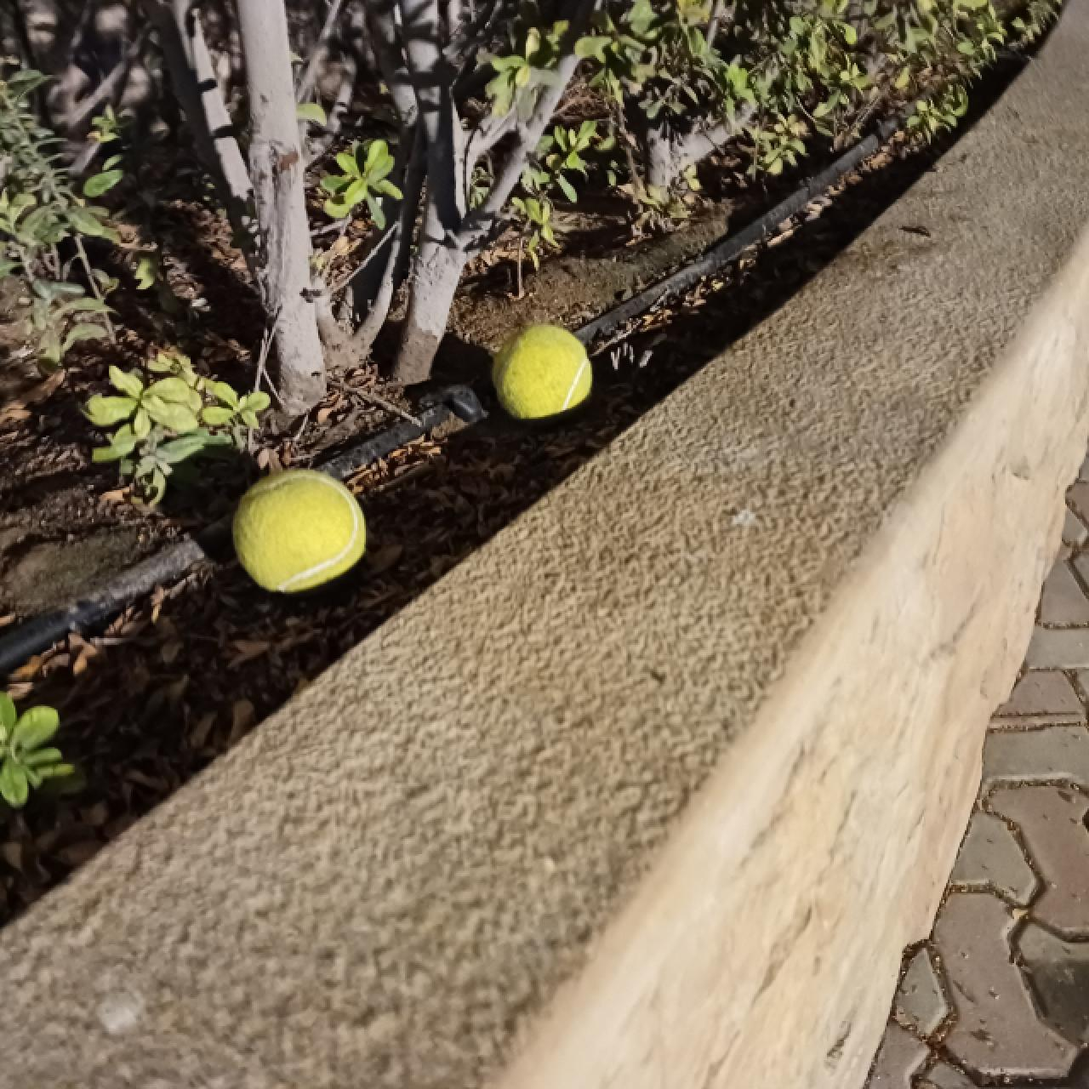tennis-ball: (229, 466, 371, 599), (490, 320, 595, 432)
